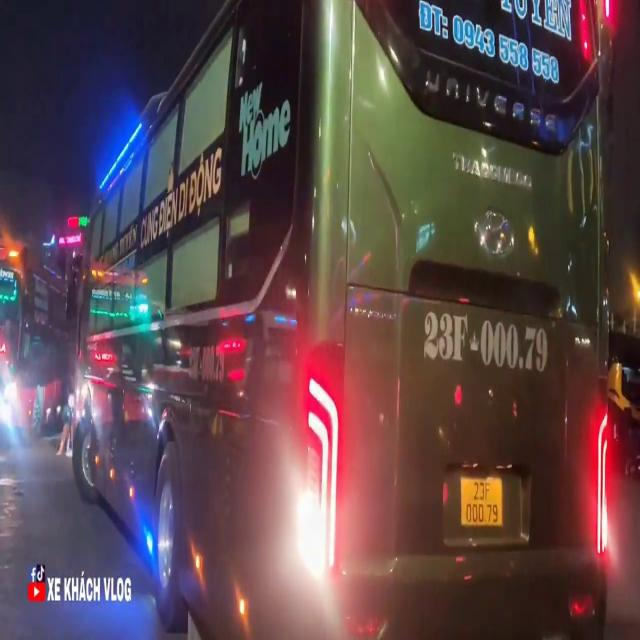bien_vang: (458, 470, 504, 533)
